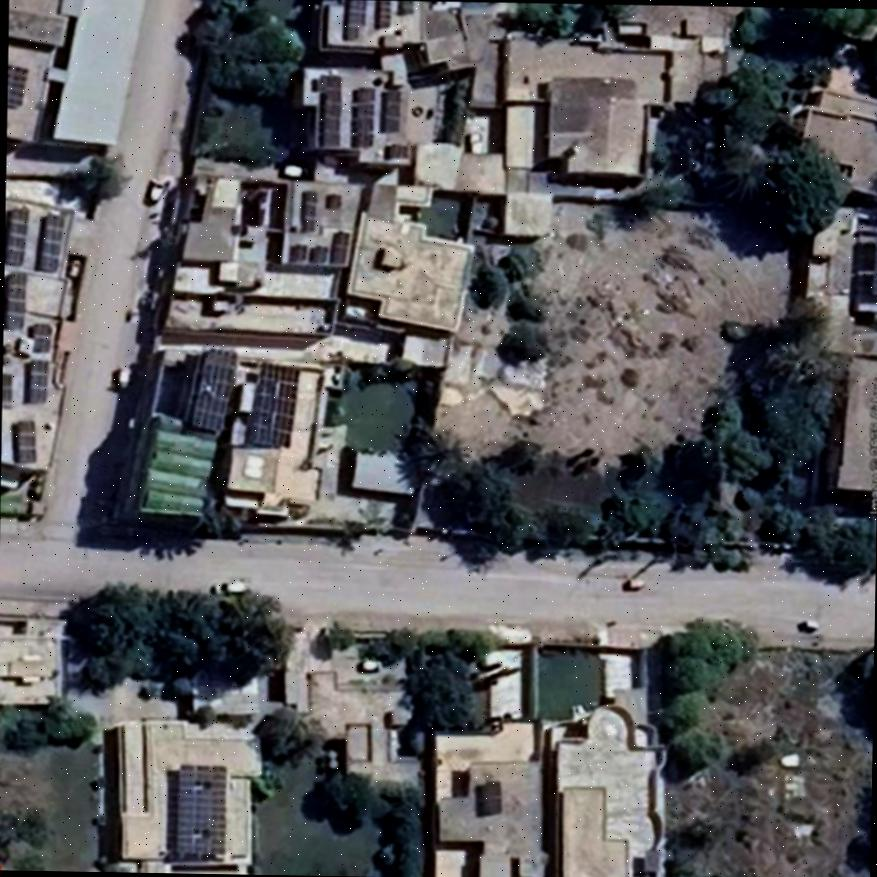Solarpanel: (243, 360, 298, 447), (175, 764, 223, 855), (192, 347, 237, 433), (34, 212, 62, 272), (2, 274, 22, 330), (321, 77, 337, 146), (6, 206, 25, 264), (354, 88, 372, 146), (28, 360, 50, 401), (6, 62, 26, 107), (15, 419, 33, 462), (381, 92, 398, 130), (329, 232, 346, 262), (869, 233, 877, 296), (344, 0, 365, 23)
